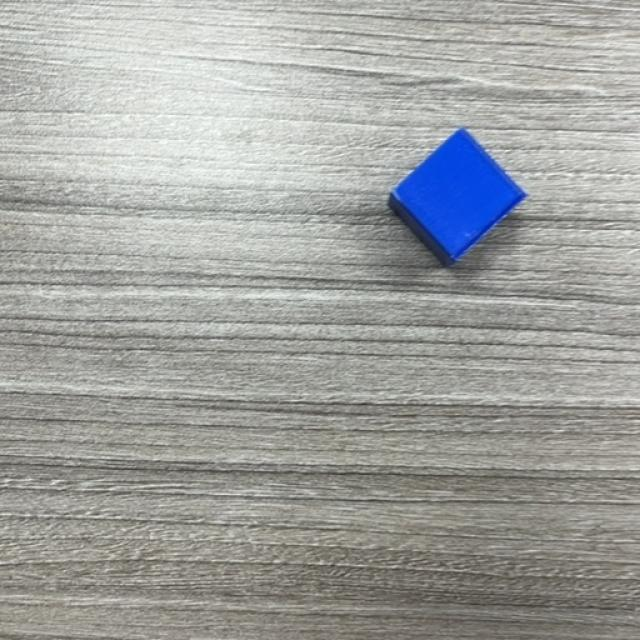Azul: (386, 129, 528, 268)
